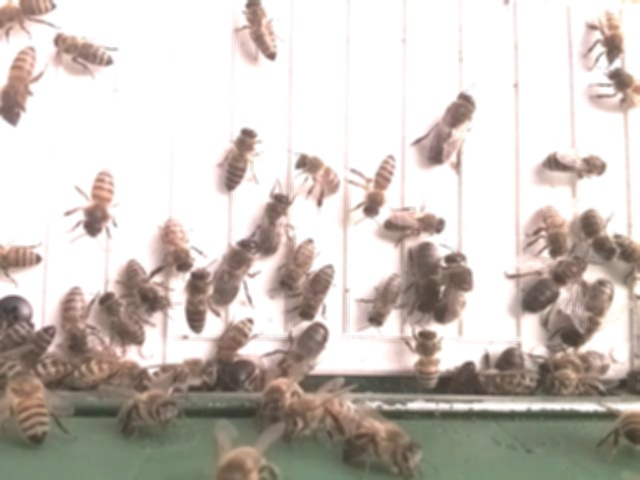Drone: (426, 87, 479, 169), (521, 253, 588, 315), (560, 277, 615, 348), (212, 235, 258, 309), (276, 319, 330, 380), (435, 250, 476, 326), (408, 240, 446, 315), (254, 188, 292, 258)
Worker: (0, 40, 40, 125), (50, 28, 120, 71), (125, 254, 172, 313), (102, 288, 147, 349), (80, 165, 118, 236), (224, 123, 262, 192), (538, 143, 610, 179), (367, 269, 407, 333), (362, 150, 399, 218), (299, 260, 338, 323), (293, 148, 344, 195), (244, 0, 282, 63), (582, 204, 622, 263), (278, 235, 318, 294), (160, 214, 198, 274), (62, 283, 92, 355), (534, 200, 571, 258), (383, 206, 450, 238), (591, 7, 627, 66), (414, 325, 446, 391), (183, 264, 210, 335), (218, 314, 254, 366), (0, 240, 48, 271)
